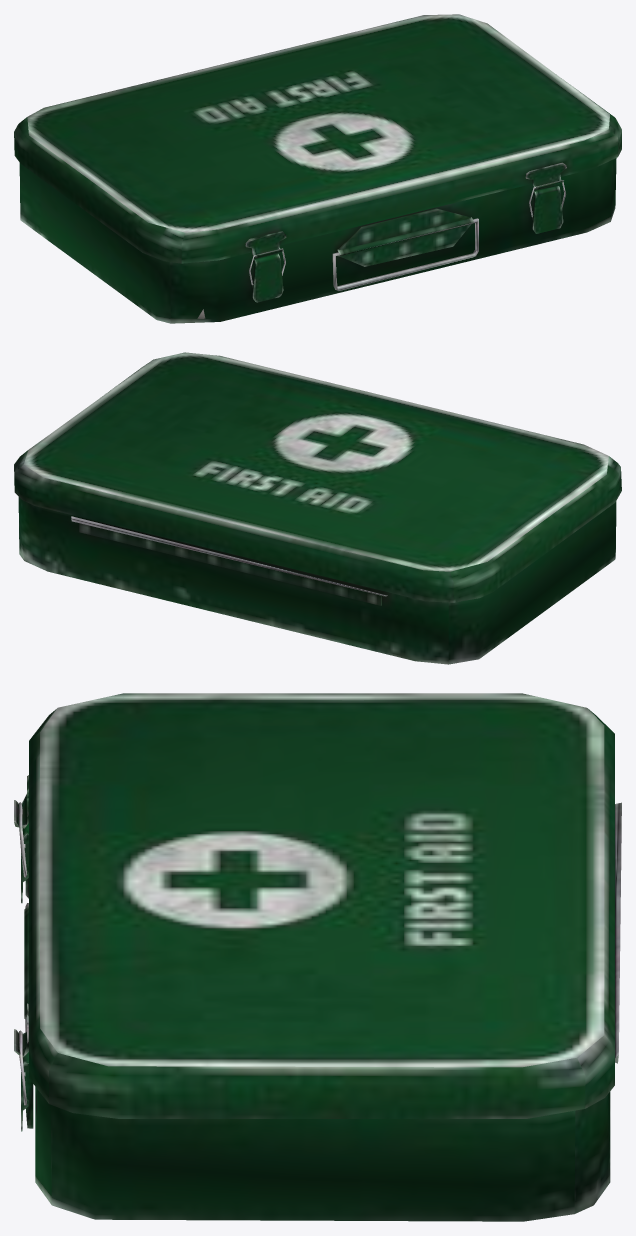
The model's file is medical_box.glb.
3 renders of one model, top to bottom at view 1: azimuth 30°, elevation 25°; view 2: azimuth 150°, elevation 25°; view 3: azimuth 270°, elevation 25°, orthographic. The views are drawn at different scales.
Visible parts, largest first — view 1: medical_box_lid, medical_box, medical_box_latch, medical_box_handle; view 2: medical_box_lid, medical_box; view 3: medical_box_lid, medical_box.
Part boxes in pixels (bbox=[...]): medical_box_lid: bbox=[14, 14, 621, 263]; medical_box: bbox=[19, 158, 616, 323]; medical_box_latch: bbox=[252, 185, 563, 302]; medical_box_handle: bbox=[332, 218, 478, 290]; medical_box_lid: bbox=[14, 352, 621, 602]; medical_box: bbox=[18, 497, 616, 664]; medical_box_lid: bbox=[14, 693, 614, 1118]; medical_box: bbox=[24, 802, 621, 1221].
Size of the model in its own units: 0.5255 by 0.0967 by 0.3501.
1 material, 1 textured.
